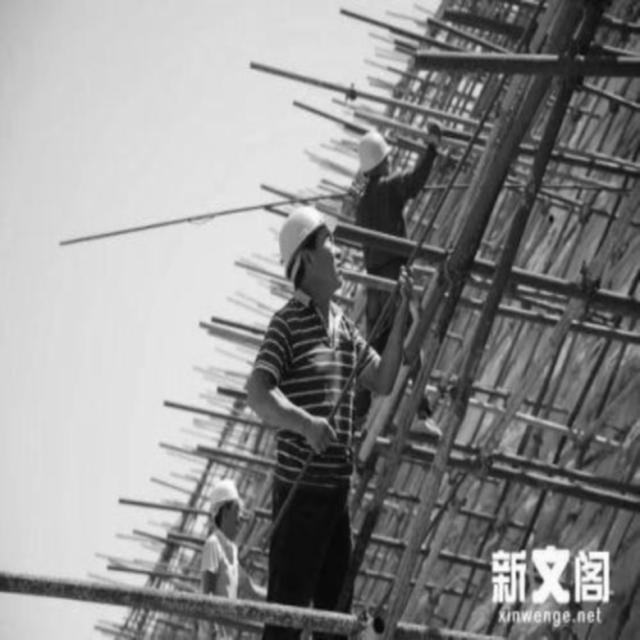head: (278, 201, 344, 299), (352, 126, 393, 186), (213, 481, 247, 536)
